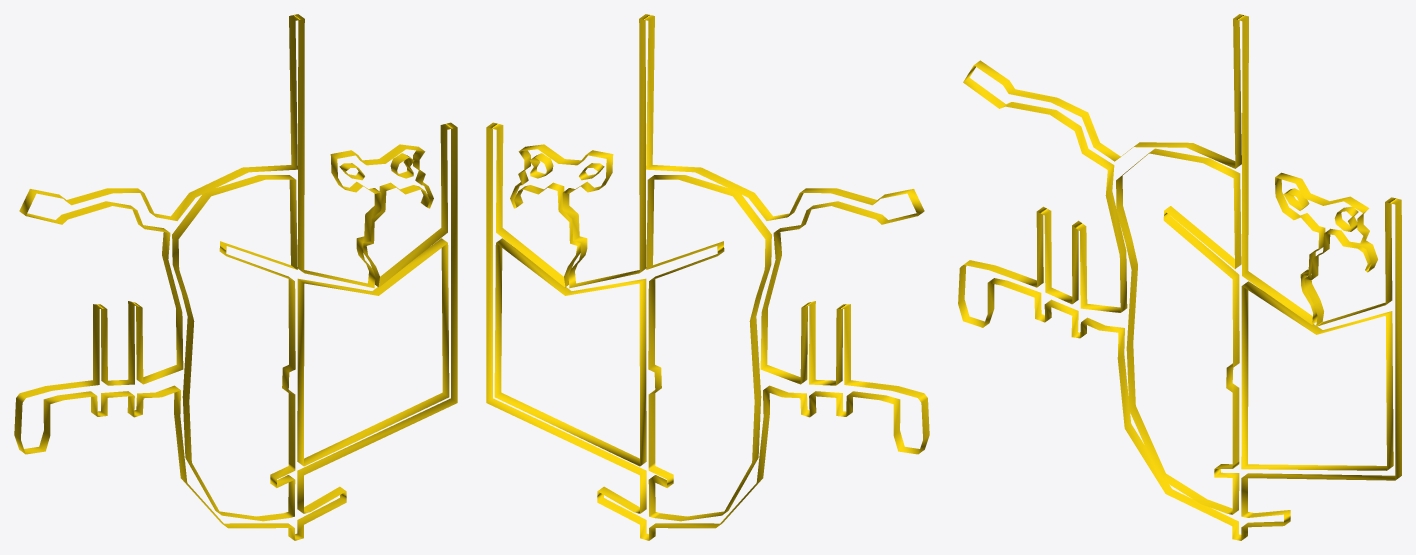
File: corridors_sup_public_accessible_wall_tri.obj
The picture shows the model from 3 angles, left to right: view 1: azimuth 30°, elevation 25°; view 2: azimuth 150°, elevation 25°; view 3: azimuth 330°, elevation 25°; orthographic projection.
Visible parts, largest first — view 1: corridors_sup_public_accessible_wall_tri_0; view 2: corridors_sup_public_accessible_wall_tri_0; view 3: corridors_sup_public_accessible_wall_tri_0.
Boxes of the visible parts, left/top/right/bottom form: corridors_sup_public_accessible_wall_tri_0: left=14, top=14, right=457, bottom=540; corridors_sup_public_accessible_wall_tri_0: left=486, top=14, right=929, bottom=540; corridors_sup_public_accessible_wall_tri_0: left=958, top=14, right=1401, bottom=540.
Size of the model in its own units: 47.97 by 54.56 by 1.25.
